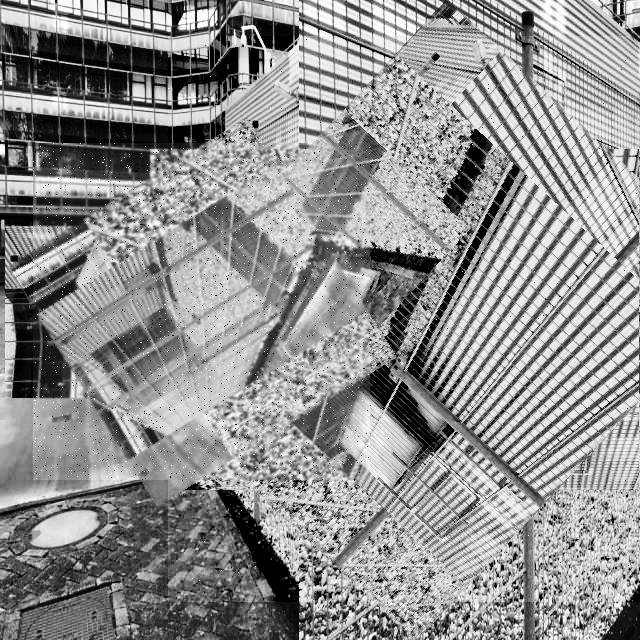fences: (168, 36, 640, 602), (33, 143, 370, 480)
